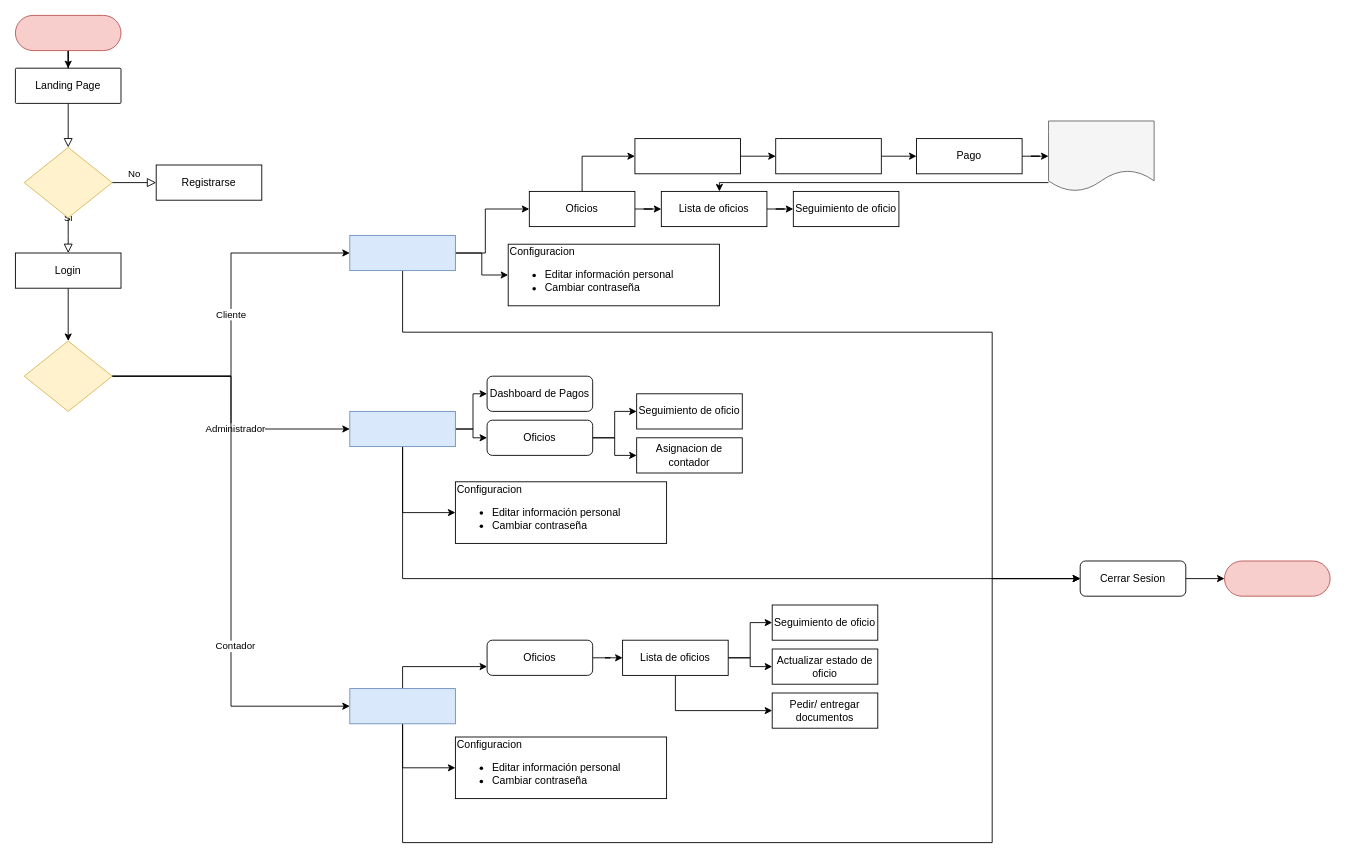
The diagram is 1346 pixels wide and 865 high, and some of its shapes have lost their labels. Each missing label, with the centre of its shape:
Factura: [1101,155]
Fin: [1277,578]
Inicio: [68,33]
Menú de Administrador: [402,429]
Menú de Cliente: [402,253]
Menú de Contador: [402,706]
Nuevo Oficio: [687,156]
Selección de servicio/ formulario: [828,156]
Tiene cuenta: [67,182]
Tipo de usuario: [67,375]
